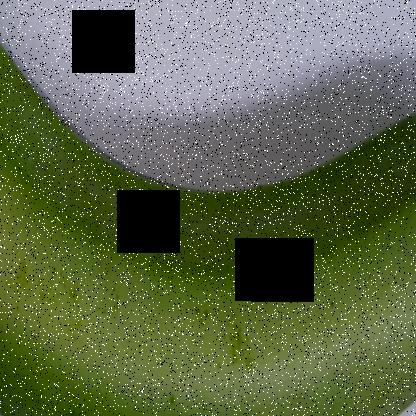freshunripe: (1, 4, 416, 415)
